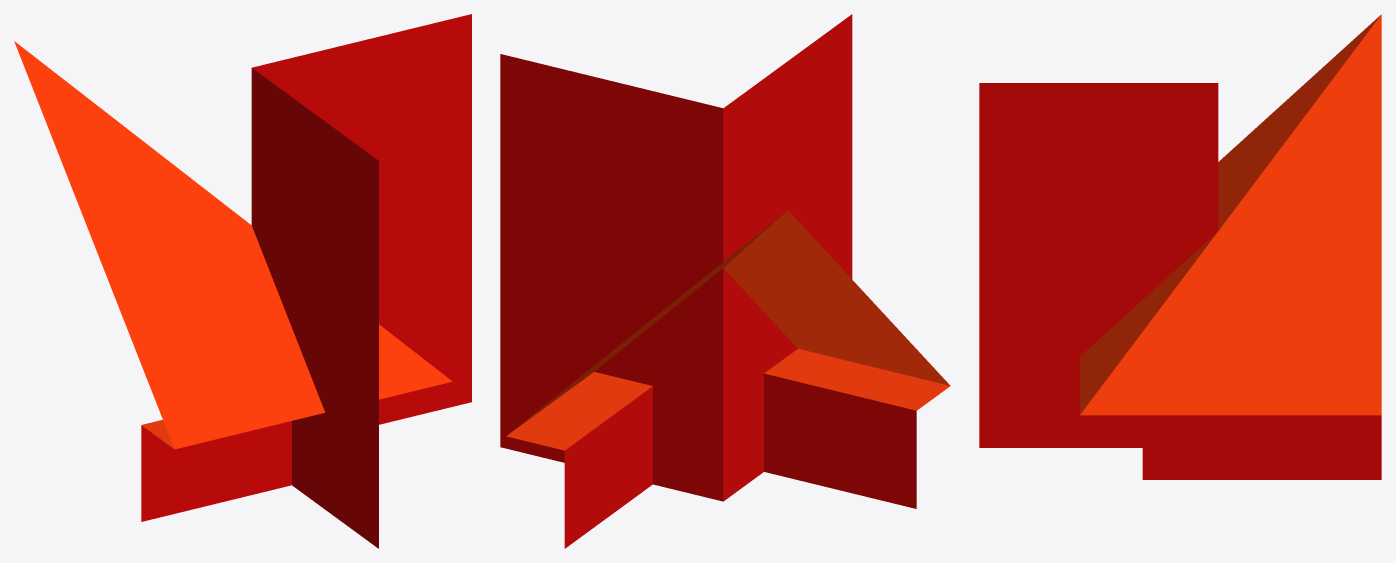
3 renders of one model, left to right at view 1: azimuth 30°, elevation 25°; view 2: azimuth 150°, elevation 25°; view 3: azimuth 270°, elevation 25°, orthographic. The views are drawn at different scales.
Parts seen in each view (by area): view 1: None_E_A_E_A_S_E_E_E_None; view 2: None_E_A_E_A_S_E_E_E_None; view 3: None_E_A_E_A_S_E_E_E_None.
Part boxes in pixels (box(x1,y1,x2,y2)): None_E_A_E_A_S_E_E_E_None: box(14, 14, 471, 548); None_E_A_E_A_S_E_E_E_None: box(500, 14, 950, 548); None_E_A_E_A_S_E_E_E_None: box(979, 14, 1381, 479).
Size of the model in its own units: 100 by 100 by 100.
